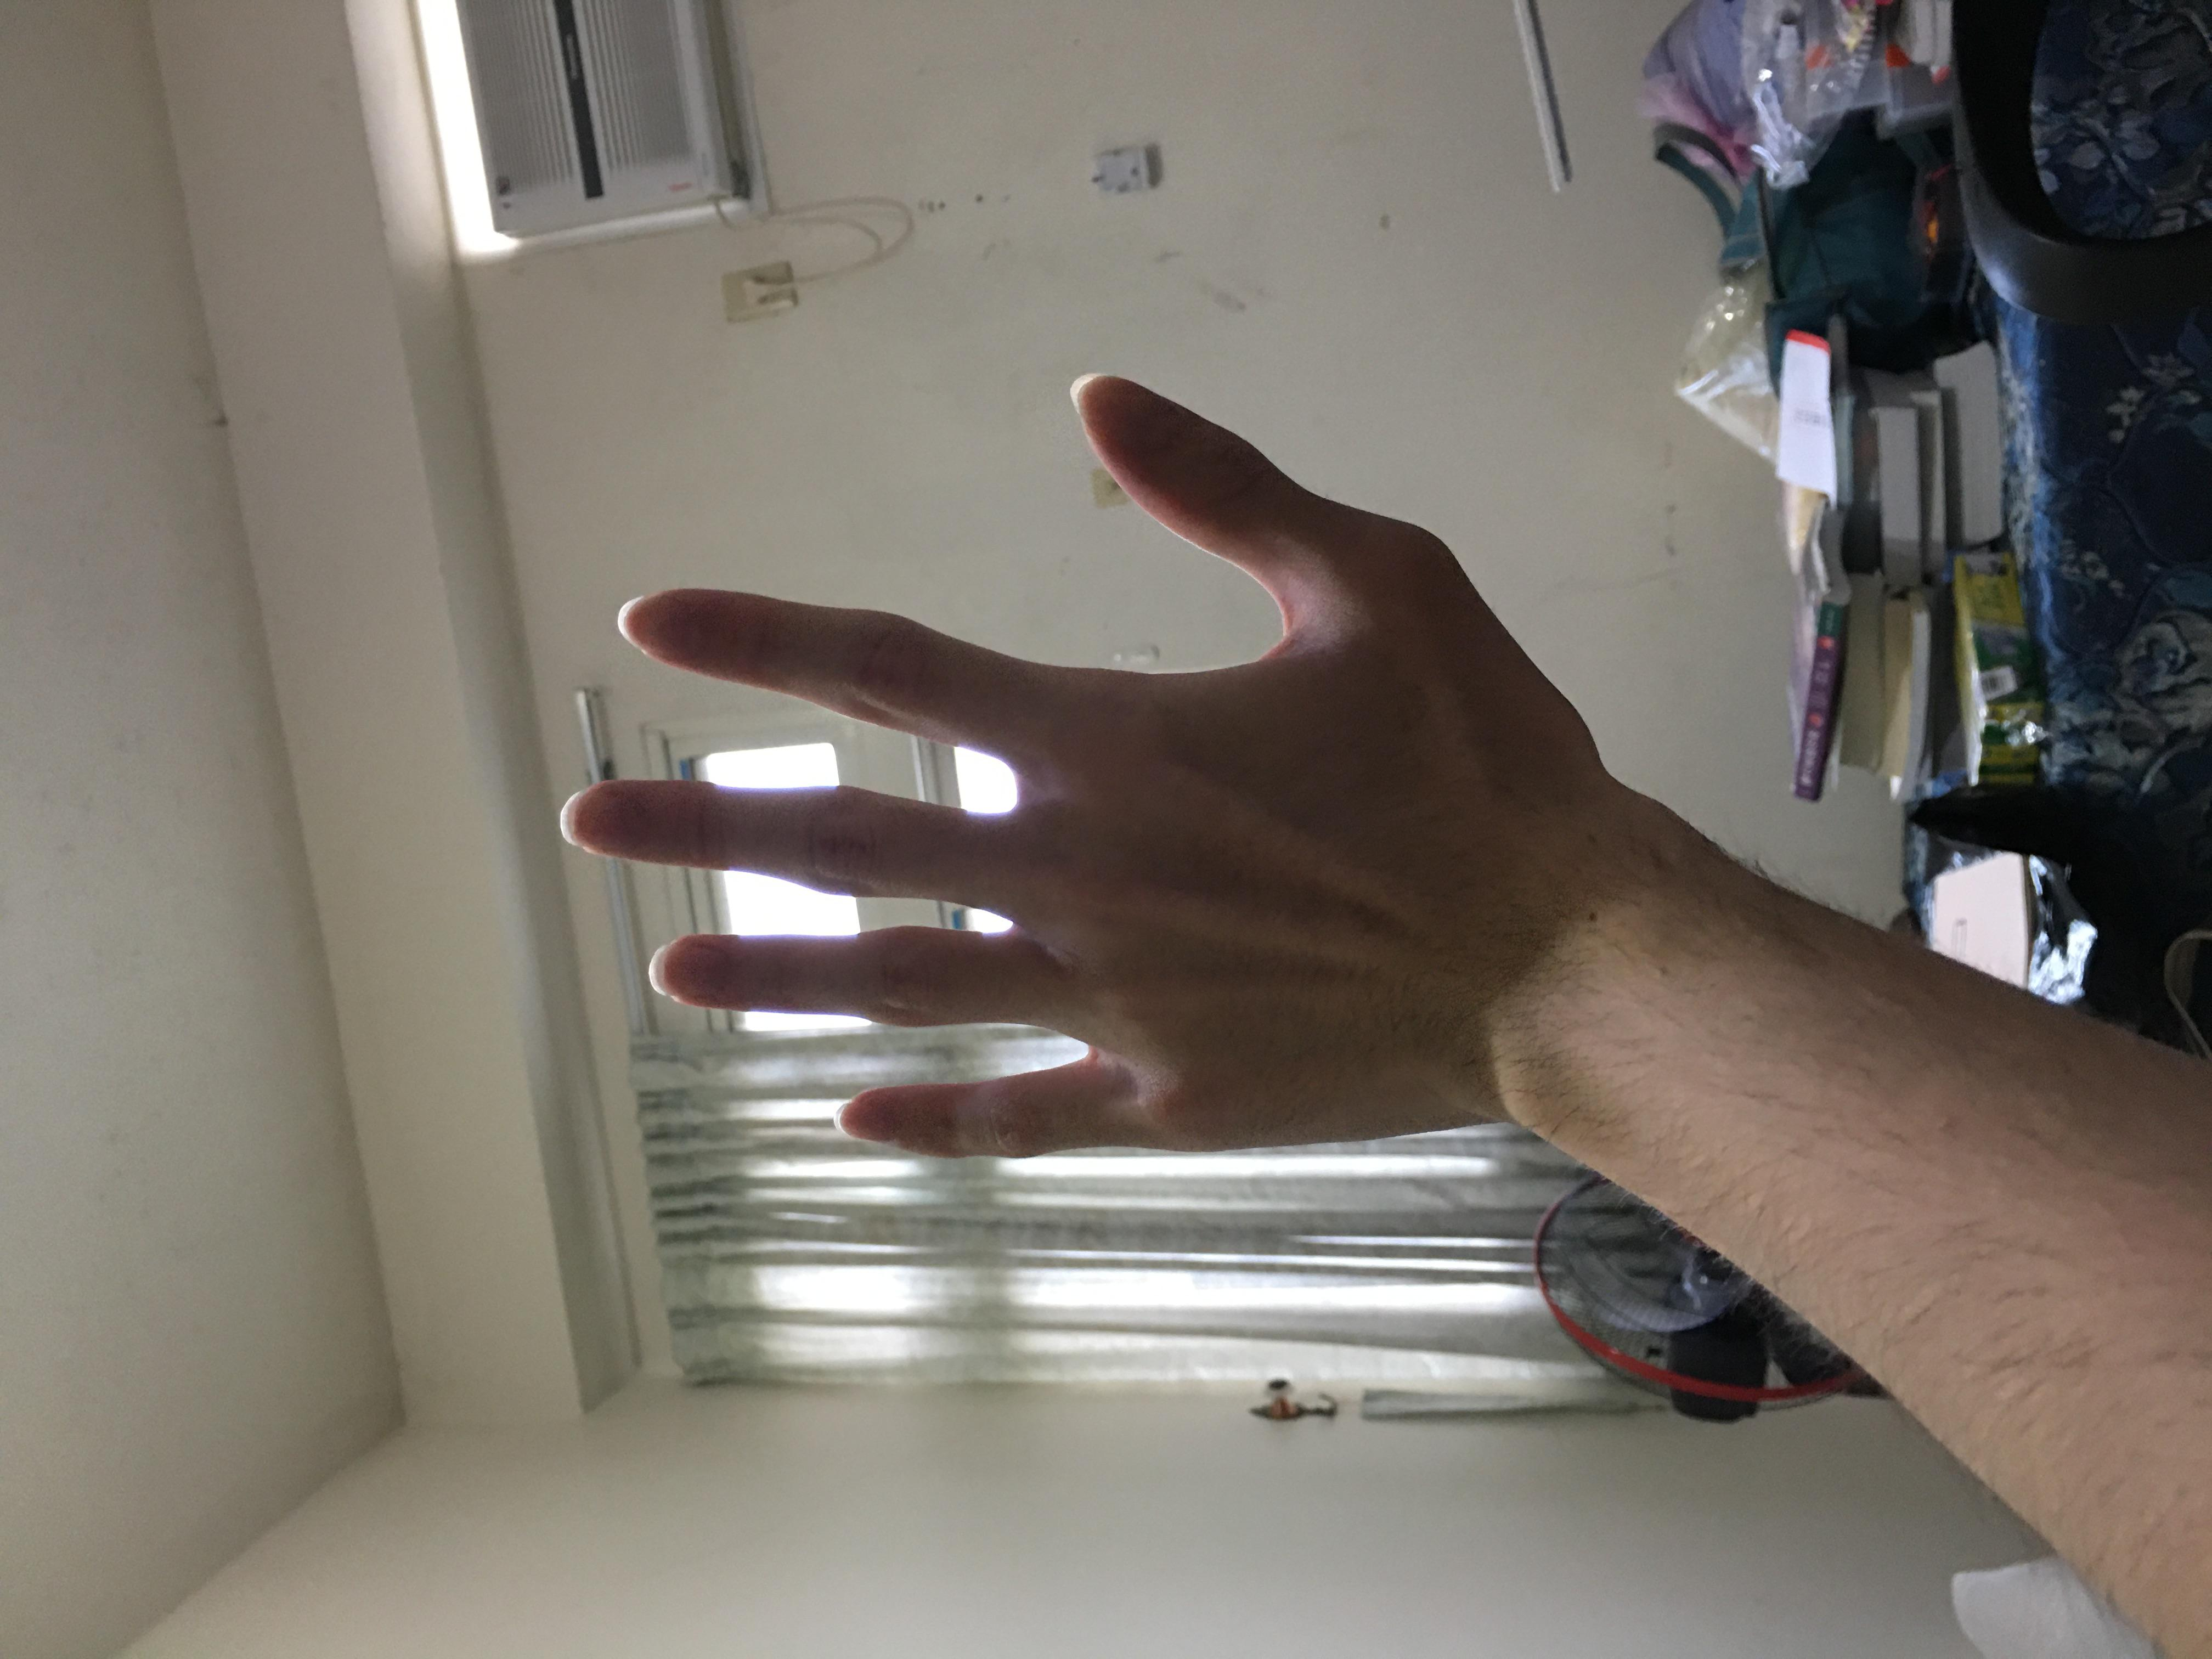hand: (664, 416, 1717, 1148)
